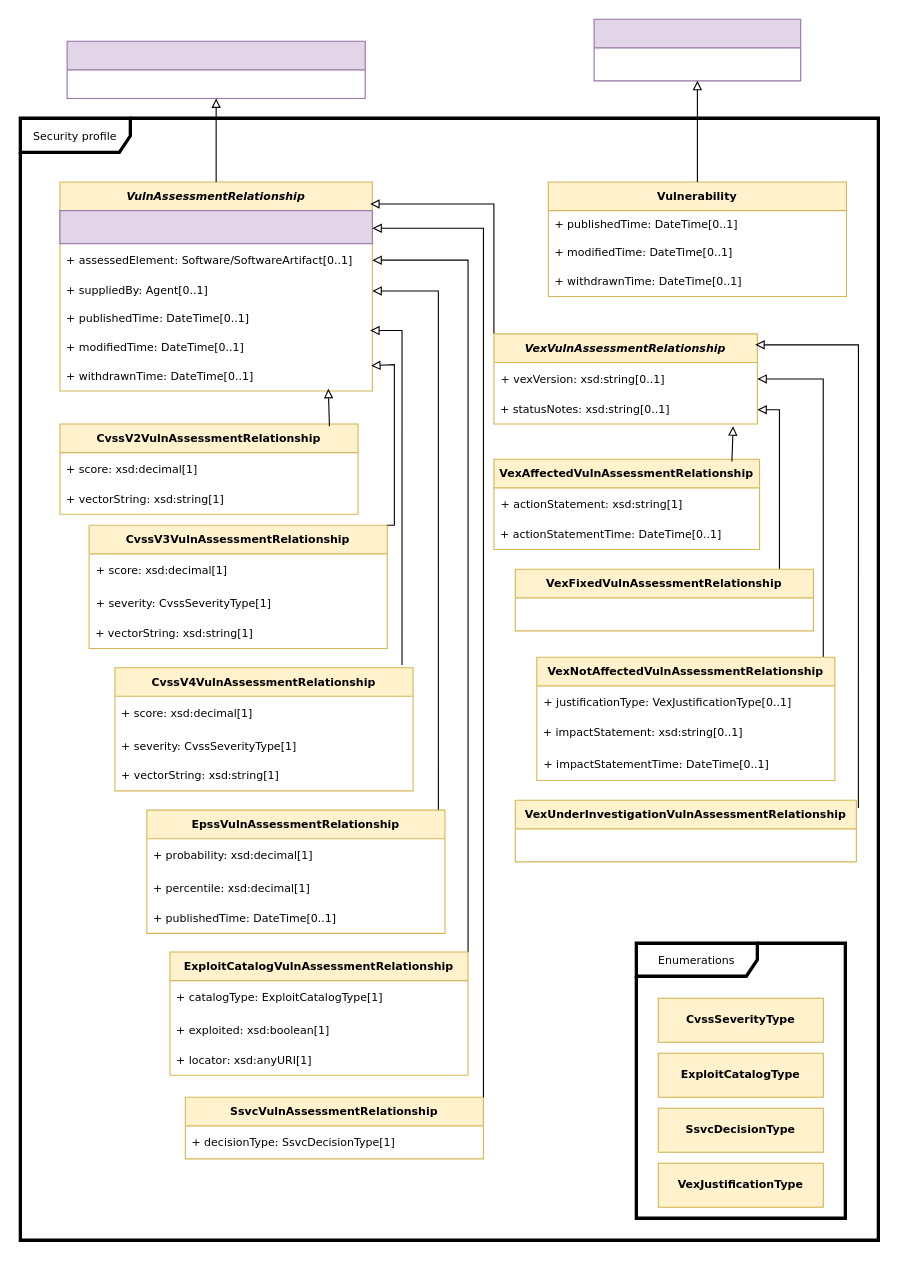
Image size: 899x1261. Some labels were removed from this diagram. The centre of each missing label's shape, as x and y in pixels:
"+ /Core/Relationship/to: Element[1]" goes at point (215, 227).
"/Core/Artifact" goes at point (697, 49).
"/Core/Relationship" goes at point (215, 69).
